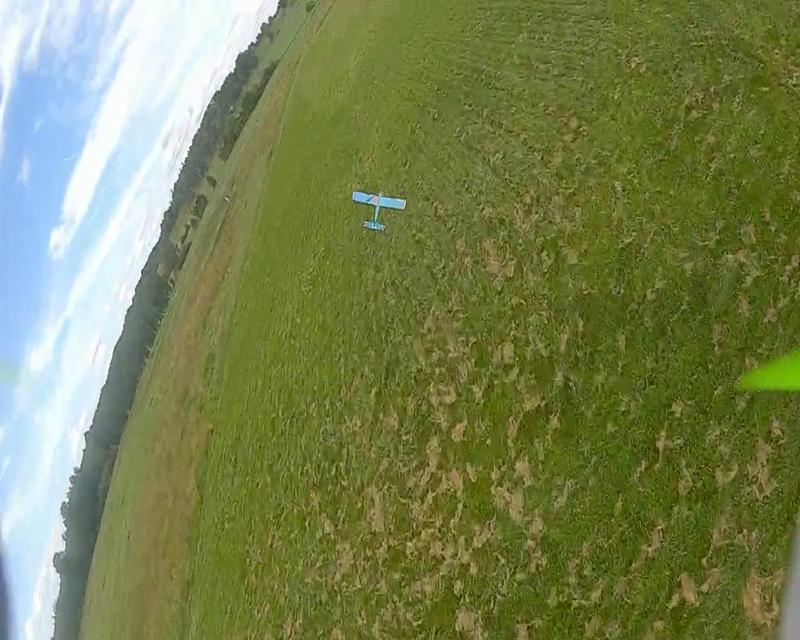UAV: (351, 189, 407, 232)
